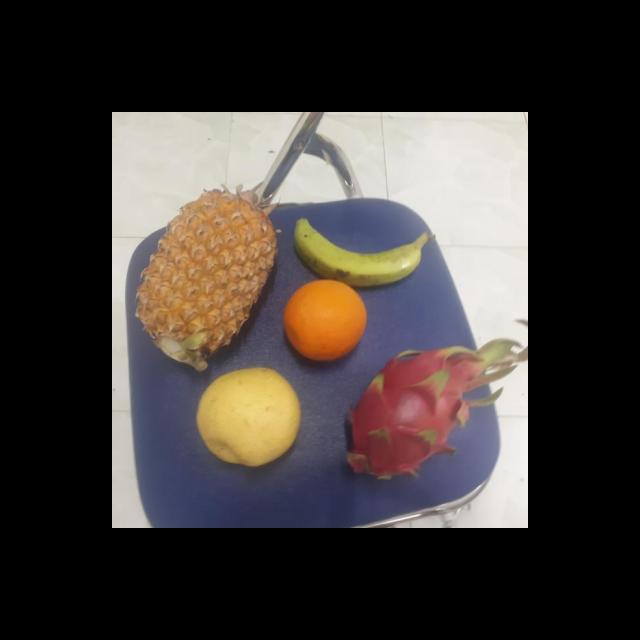banana: (288, 204, 422, 288)
orange: (278, 280, 366, 362)
pear: (190, 366, 302, 468)
pineapple: (135, 193, 273, 369)
pitaya: (338, 347, 474, 479)
